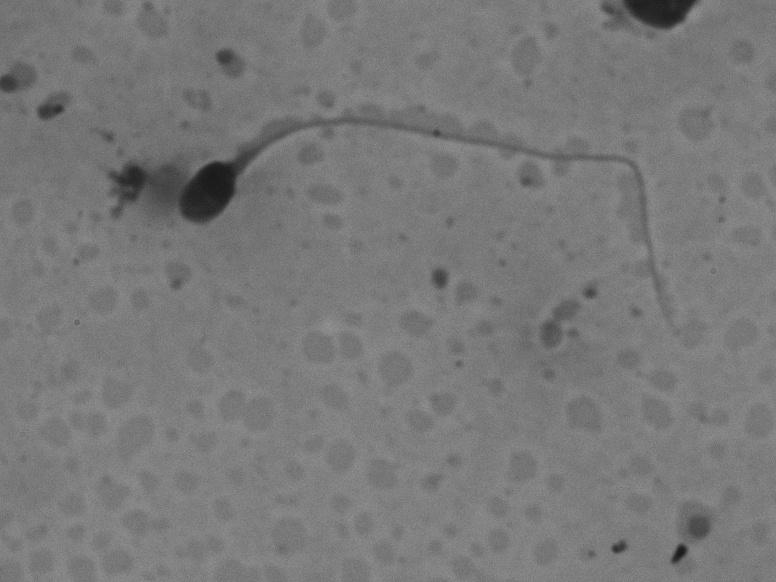Abnormal: (171, 92, 722, 349)
